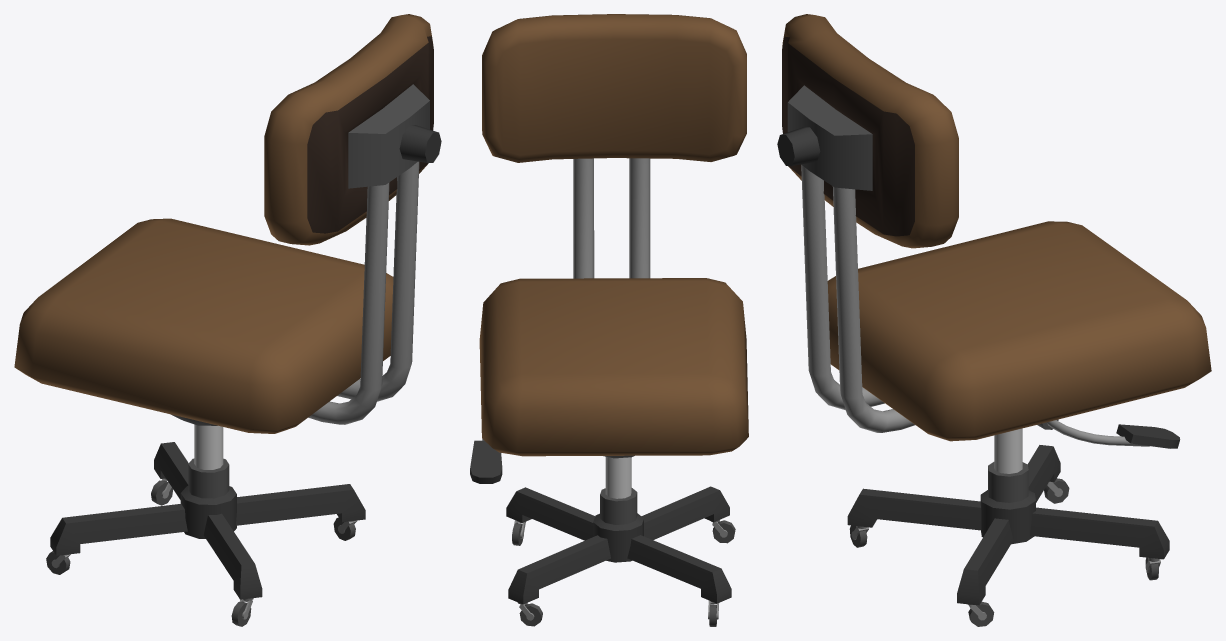
File: Office_Chair2.fbx
3 renders of one model, left to right at view 1: azimuth 30°, elevation 25°; view 2: azimuth 150°, elevation 25°; view 3: azimuth 270°, elevation 25°, orthographic. The views are drawn at different scales.
Visible parts, largest first — view 1: Cube.043; view 2: Cube.043; view 3: Cube.043.
Part boxes in pixels (box(x1,y1,x2,y2)): Cube.043: box(14, 14, 441, 626); Cube.043: box(470, 14, 748, 626); Cube.043: box(777, 14, 1211, 626).
Bounding box in the file's own units: 94.63 × 141 × 101.
